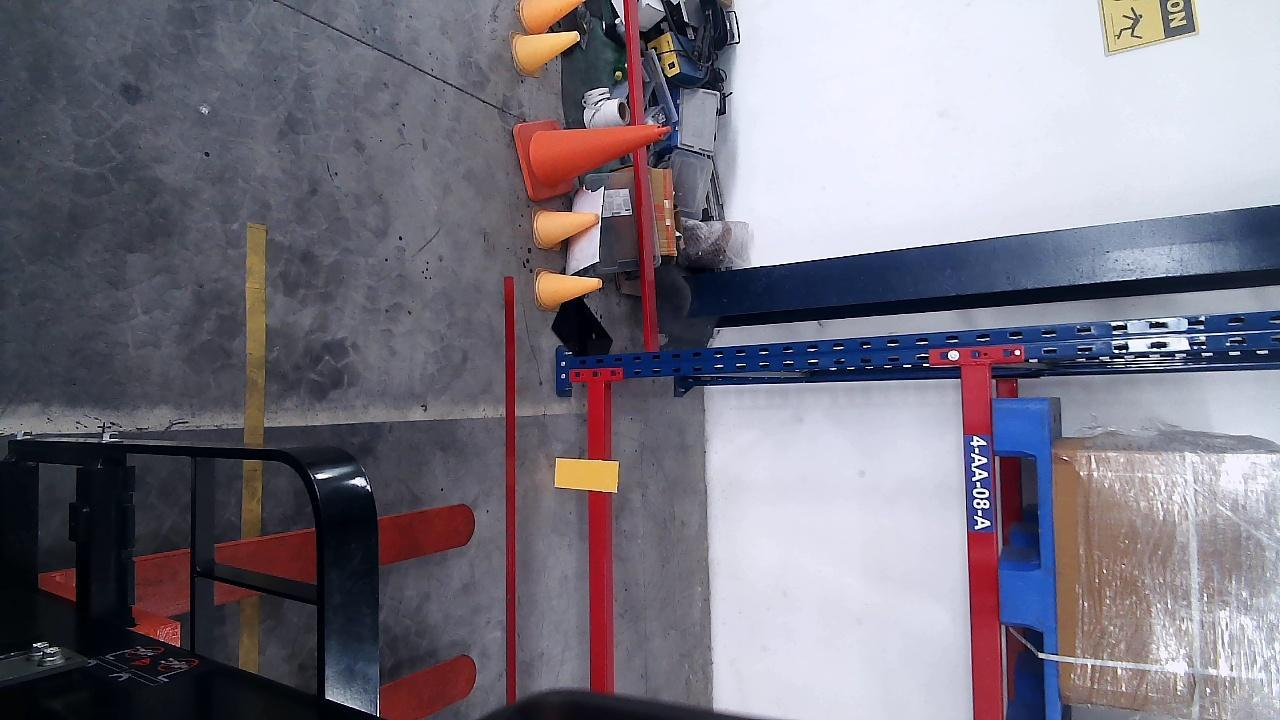h_rack: (957, 362, 1006, 720), (585, 380, 614, 694)
orange_strip: (553, 457, 618, 491)
red_line: (500, 276, 520, 703)
small_pallet: (990, 400, 1063, 717)
yellow_line: (238, 224, 267, 671)
